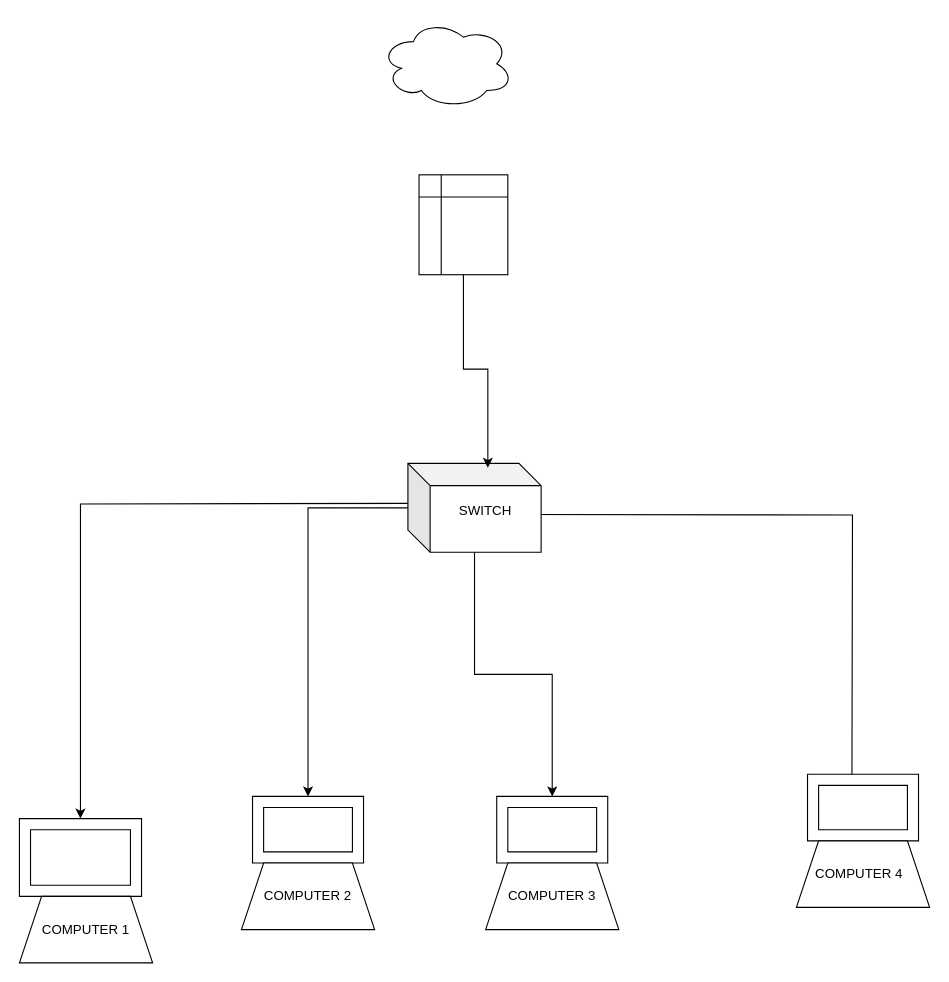
The diagram is 949 pixels wide and 982 high, and some of its shapes have lost their labels. The centre of each missing label's shape, as x and y in pixels:
"ethernet" goes at point 446,63.
"ROUTER" goes at point 463,224.
